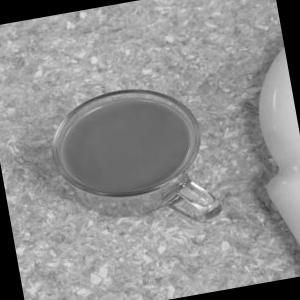coffee: (16, 61, 244, 266)
